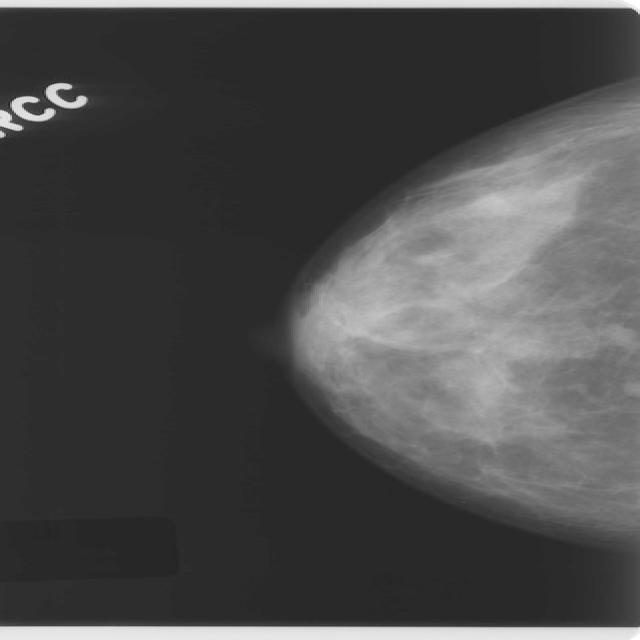tumour: (618, 380, 638, 397)
